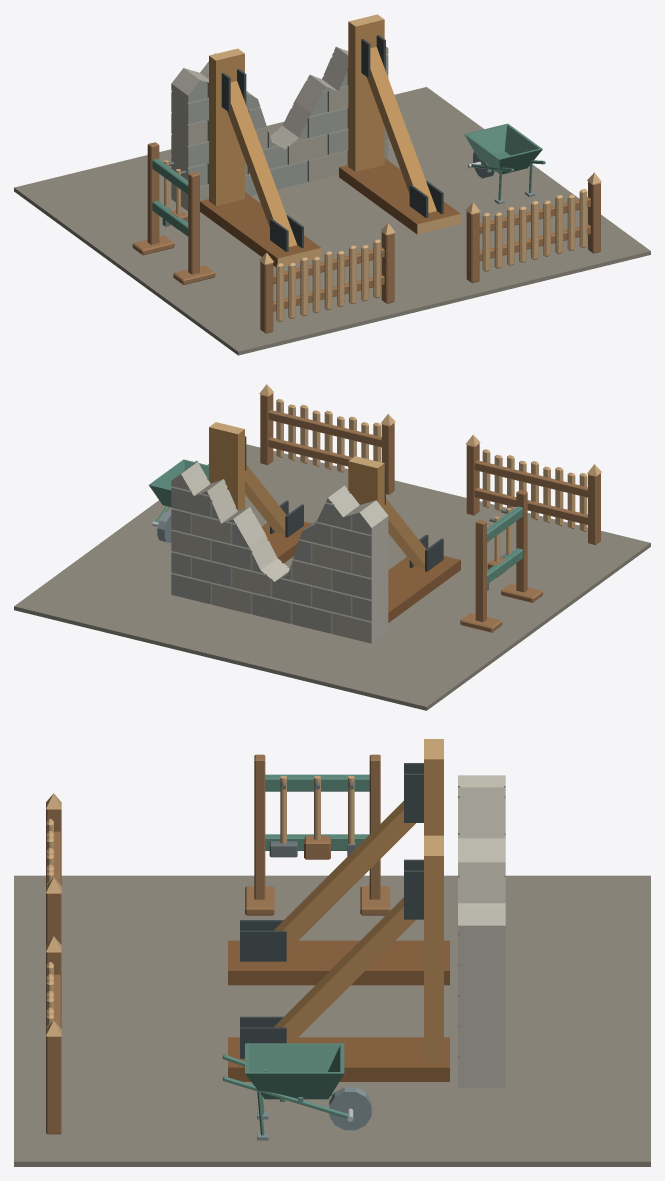
The picture shows the model from 3 angles, top to bottom: view 1: azimuth 30°, elevation 25°; view 2: azimuth 150°, elevation 25°; view 3: azimuth 270°, elevation 25°; orthographic projection. The views are drawn at different scales.
Parts seen in each view (by area): view 1: SCENE_ONLY__Continuous_Repair_Workground, retained_breached_wall__ContinuousBreachedMasonry, south_east_fence__village-fence-straight-01, south_west_fence__village-fence-straight-01, west_inward_tool_rack__village-tool-rack-01, east_staged_shore__WholeVerticalWallPlate, west_staged_shore__WholeVerticalWallPlate, east_staged_shore__WholeHorizontalGroundSole, west_staged_shore__WholeHorizontalGroundSole, east_inward_barrow__construction-wheelbarrow-01, west_staged_shore__ContinuousFlushCutDiagonalRaker, east_staged_shore__ContinuousFlushCutDiagonalRaker; view 2: SCENE_ONLY__Continuous_Repair_Workground, retained_breached_wall__ContinuousBreachedMasonry, south_west_fence__village-fence-straight-01, south_east_fence__village-fence-straight-01, west_inward_tool_rack__village-tool-rack-01, west_staged_shore__WholeHorizontalGroundSole, east_staged_shore__WholeVerticalWallPlate, west_staged_shore__WholeVerticalWallPlate, east_inward_barrow__construction-wheelbarrow-01, east_staged_shore__ContinuousFlushCutDiagonalRaker, west_staged_shore__ContinuousFlushCutDiagonalRaker, east_staged_shore__WholeHorizontalGroundSole; view 3: SCENE_ONLY__Continuous_Repair_Workground, retained_breached_wall__ContinuousBreachedMasonry, west_inward_tool_rack__village-tool-rack-01, east_inward_barrow__construction-wheelbarrow-01, west_staged_shore__WholeHorizontalGroundSole, east_staged_shore__WholeHorizontalGroundSole, east_staged_shore__WholeVerticalWallPlate, east_staged_shore__ContinuousFlushCutDiagonalRaker, west_staged_shore__ContinuousFlushCutDiagonalRaker, south_east_fence__village-fence-straight-01, south_west_fence__village-fence-straight-01, west_staged_shore__WholeVerticalWallPlate (+4 smaller).
Boxes of the visible parts, x1,y1,x2,y2 form: SCENE_ONLY__Continuous_Repair_Workground: [14, 87, 650, 355]; retained_breached_wall__ContinuousBreachedMasonry: [171, 46, 388, 210]; south_east_fence__village-fence-straight-01: [466, 172, 601, 283]; south_west_fence__village-fence-straight-01: [259, 223, 395, 333]; west_inward_tool_rack__village-tool-rack-01: [132, 142, 215, 284]; east_staged_shore__WholeVerticalWallPlate: [348, 14, 384, 171]; west_staged_shore__WholeVerticalWallPlate: [209, 48, 244, 205]; east_staged_shore__WholeHorizontalGroundSole: [339, 158, 460, 234]; west_staged_shore__WholeHorizontalGroundSole: [200, 192, 321, 267]; east_inward_barrow__construction-wheelbarrow-01: [464, 123, 545, 204]; west_staged_shore__ContinuousFlushCutDiagonalRaker: [227, 81, 297, 246]; east_staged_shore__ContinuousFlushCutDiagonalRaker: [366, 47, 436, 212]; SCENE_ONLY__Continuous_Repair_Workground: [14, 444, 650, 710]; retained_breached_wall__ContinuousBreachedMasonry: [171, 462, 388, 643]; south_west_fence__village-fence-straight-01: [466, 435, 601, 545]; south_east_fence__village-fence-straight-01: [259, 384, 395, 494]; west_inward_tool_rack__village-tool-rack-01: [460, 490, 542, 632]; west_staged_shore__WholeHorizontalGroundSole: [388, 556, 460, 622]; east_staged_shore__WholeVerticalWallPlate: [209, 422, 244, 511]; west_staged_shore__WholeVerticalWallPlate: [348, 456, 384, 510]; east_inward_barrow__construction-wheelbarrow-01: [149, 459, 208, 542]; east_staged_shore__ContinuousFlushCutDiagonalRaker: [245, 464, 286, 534]; west_staged_shore__ContinuousFlushCutDiagonalRaker: [384, 498, 426, 568]; east_staged_shore__WholeHorizontalGroundSole: [262, 521, 311, 563]; SCENE_ONLY__Continuous_Repair_Workground: [14, 875, 650, 1166]; retained_breached_wall__ContinuousBreachedMasonry: [458, 775, 505, 1087]; west_inward_tool_rack__village-tool-rack-01: [245, 754, 390, 915]; east_inward_barrow__construction-wheelbarrow-01: [222, 1043, 371, 1140]; west_staged_shore__WholeHorizontalGroundSole: [228, 940, 449, 985]; east_staged_shore__WholeHorizontalGroundSole: [228, 1037, 449, 1081]; east_staged_shore__WholeVerticalWallPlate: [424, 835, 443, 1062]; east_staged_shore__ContinuousFlushCutDiagonalRaker: [274, 897, 415, 1043]; west_staged_shore__ContinuousFlushCutDiagonalRaker: [274, 801, 415, 951]; south_east_fence__village-fence-straight-01: [46, 936, 61, 1134]; south_west_fence__village-fence-straight-01: [46, 793, 61, 944]; west_staged_shore__WholeVerticalWallPlate: [424, 739, 443, 835].
Size of the model in its own units: 6.8 by 2.51 by 6.4.
